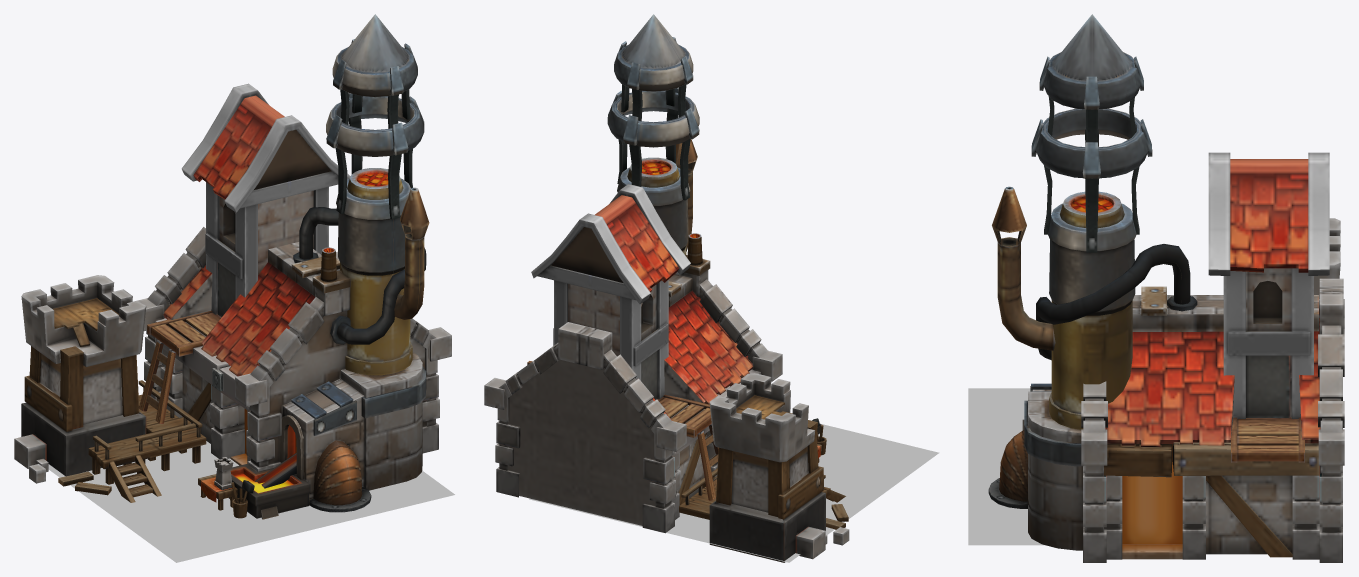
The model's file is C_DirtyWorkshop_LV3.fbx.
3 views of the same model, side by side, from view 1: azimuth 30°, elevation 25°; view 2: azimuth 150°, elevation 25°; view 3: azimuth 270°, elevation 25° (orthographic). The views are drawn at different scales.
Parts seen in each view (by area): view 1: Dirty_Workshop_LV03_2_mesh, Dirty_Workshop_LV03_1_mesh; view 2: Dirty_Workshop_LV03_2_mesh, Dirty_Workshop_LV03_1_mesh; view 3: Dirty_Workshop_LV03_2_mesh, Dirty_Workshop_LV03_1_mesh.
Part boxes in pixels (x1,y1,x2,y2): Dirty_Workshop_LV03_2_mesh: (14,14,451,519); Dirty_Workshop_LV03_1_mesh: (48,441,454,562); Dirty_Workshop_LV03_2_mesh: (484,14,849,562); Dirty_Workshop_LV03_1_mesh: (529,423,939,562); Dirty_Workshop_LV03_2_mesh: (988,14,1344,562); Dirty_Workshop_LV03_1_mesh: (968,388,1044,545).
Size of the model in its own units: 149 by 186 by 122.
